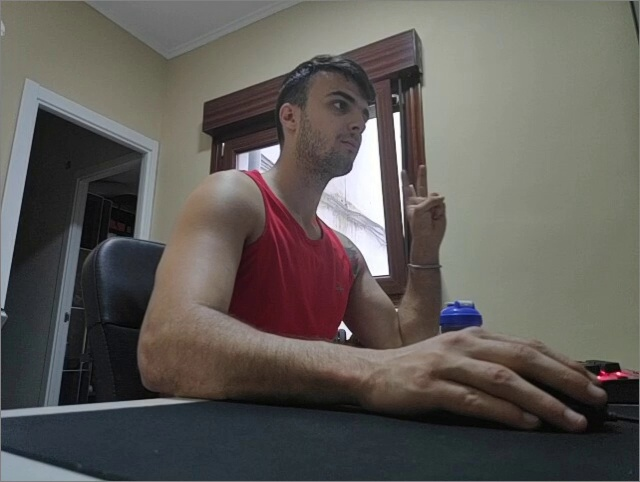Peace: (397, 162, 446, 242)
